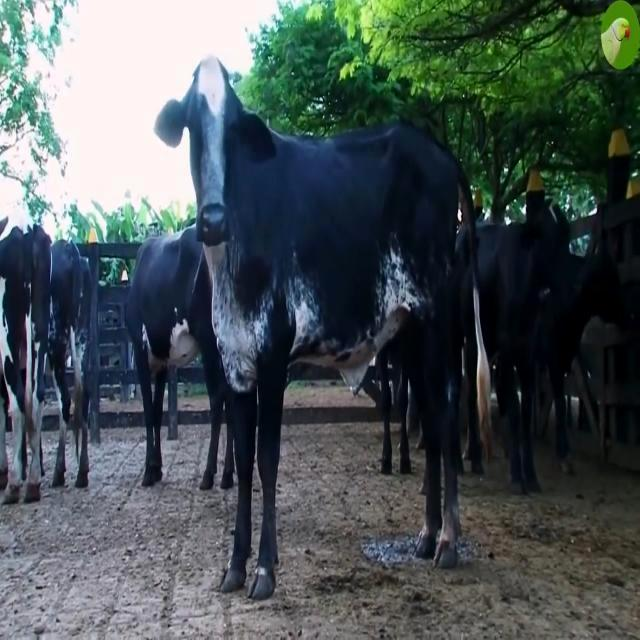COW: (156, 58, 471, 599)
